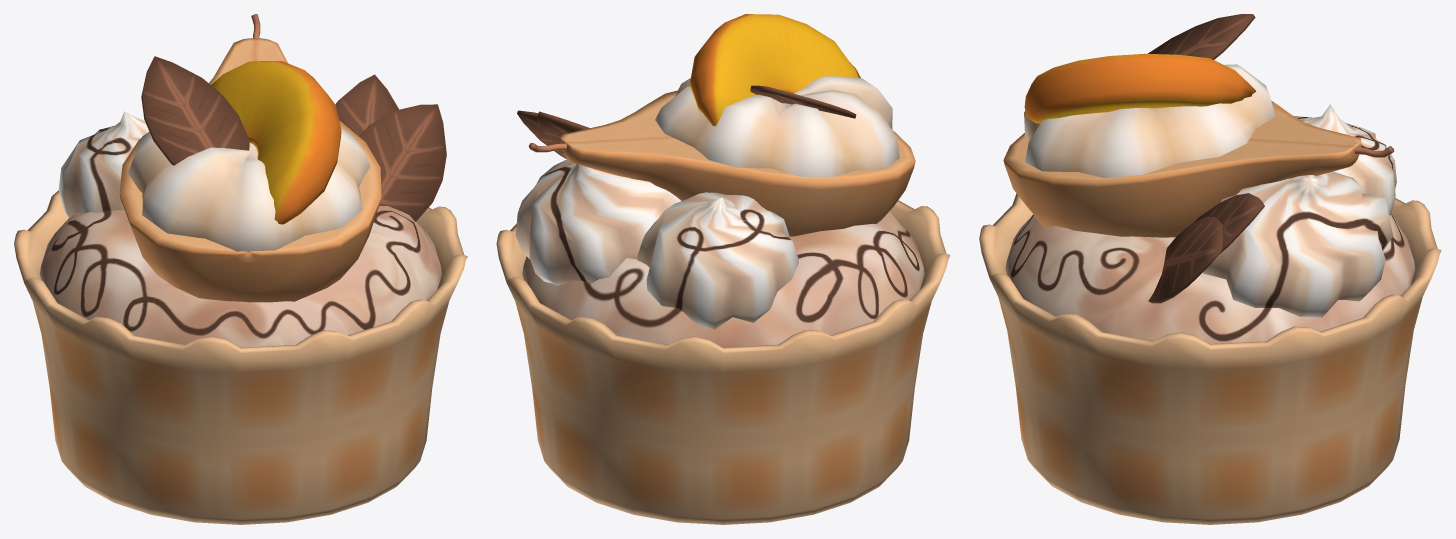
The model's file is dessert_pear_2.fbx.
3 views of the same model, side by side, from view 1: azimuth 30°, elevation 25°; view 2: azimuth 150°, elevation 25°; view 3: azimuth 270°, elevation 25° (orthographic).
Visible parts, largest first — view 1: dessert_wafer_light; view 2: dessert_wafer_light; view 3: dessert_wafer_light.
Part boxes in pixels (left/top/right/bottom): dessert_wafer_light: left=14, top=14, right=467, bottom=524; dessert_wafer_light: left=496, top=14, right=950, bottom=524; dessert_wafer_light: left=979, top=14, right=1441, bottom=524.
Bounding box in the file's own units: 13.1 × 12.51 × 12.95.
